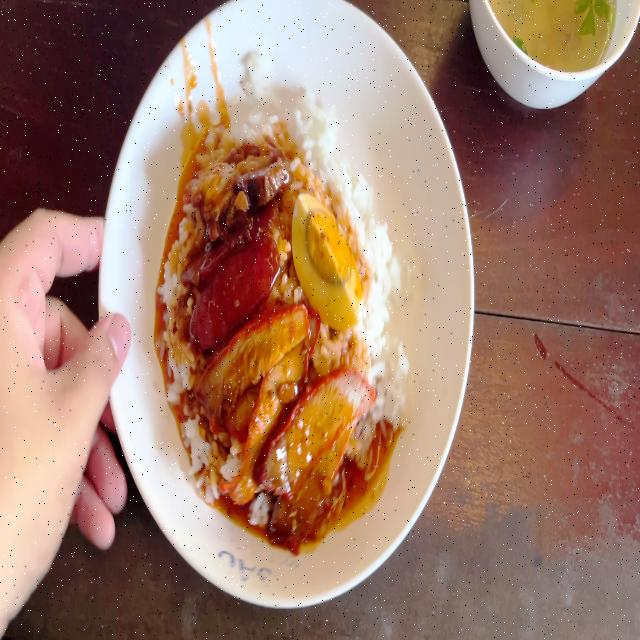boiled_egg: (297, 205, 362, 322)
chainese_sausage: (188, 223, 276, 339)
crispy_pork: (194, 151, 280, 227)
red_pork: (225, 319, 361, 505)
red_pork_and_crispy_pork: (159, 102, 424, 522)
rice: (270, 107, 358, 200), (354, 307, 418, 407), (354, 194, 400, 284)
